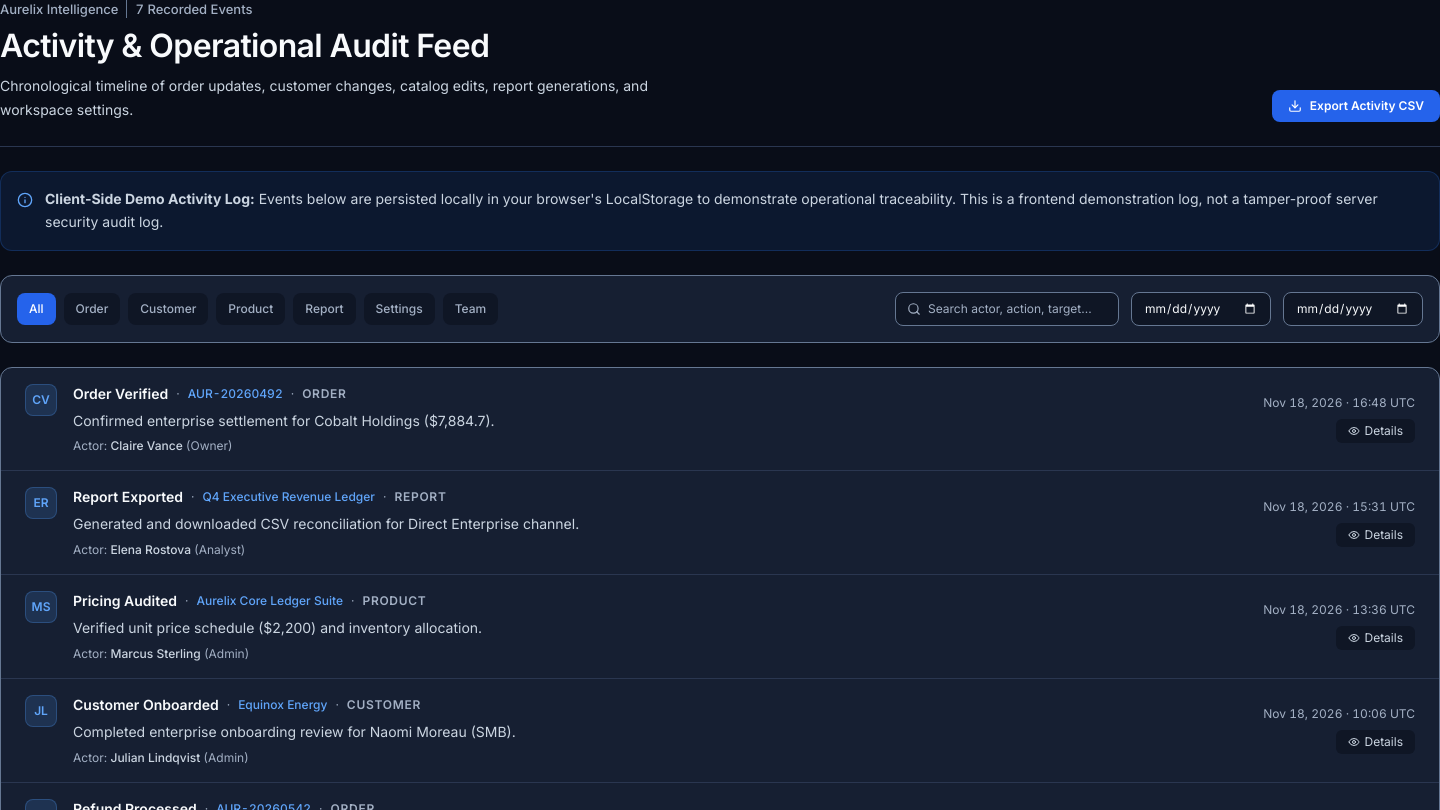
Test case: Phase 7 catalog and accessibility regressions › has a single named Activity details action per event
The width and height of the screenshot is (1440, 810).
Click the button "Details" below "Nov 18, 2026 · 16:48 UTC": [1376, 431] box [1336,419,1415,443]
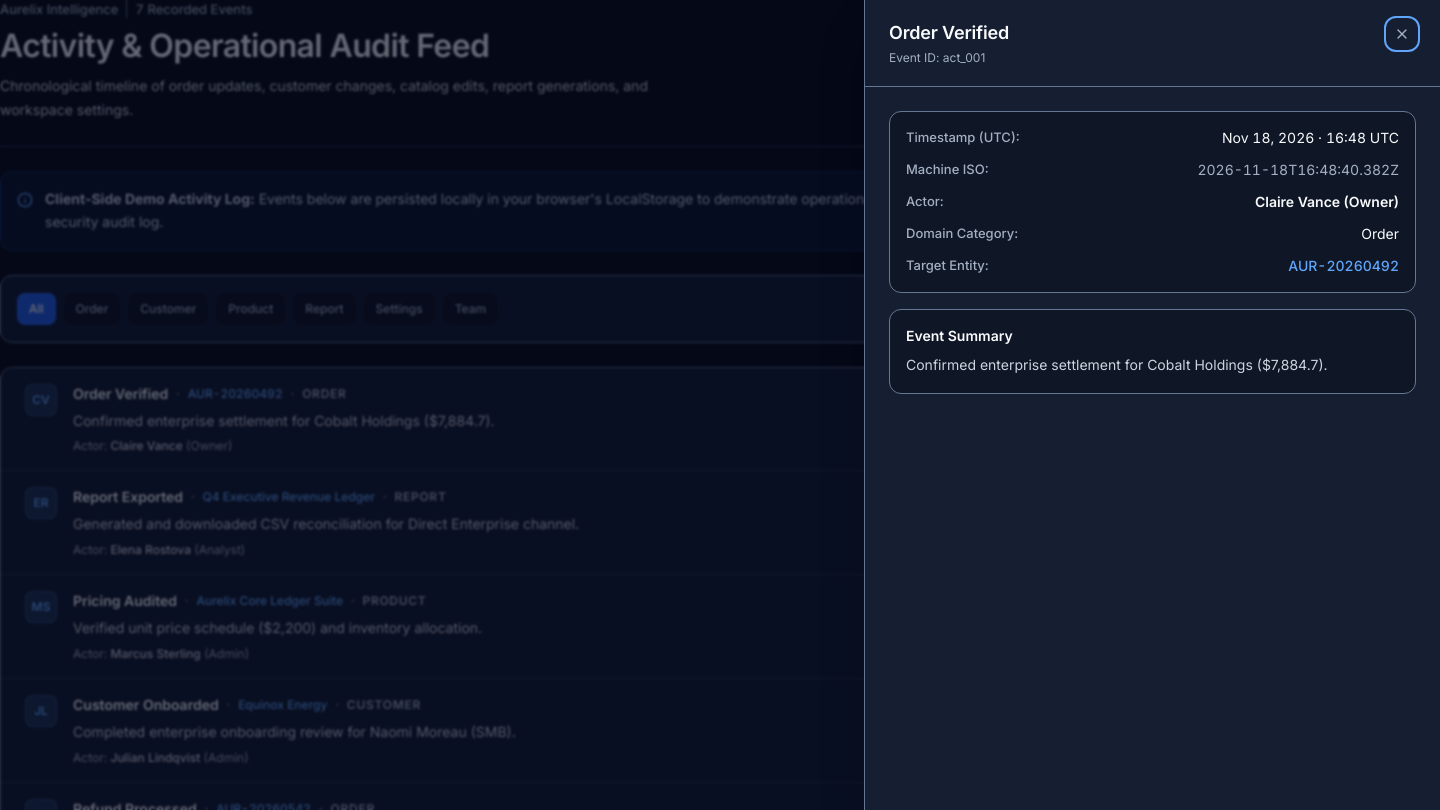
Expected: the dialog is shown, [864,0,1439,809]
